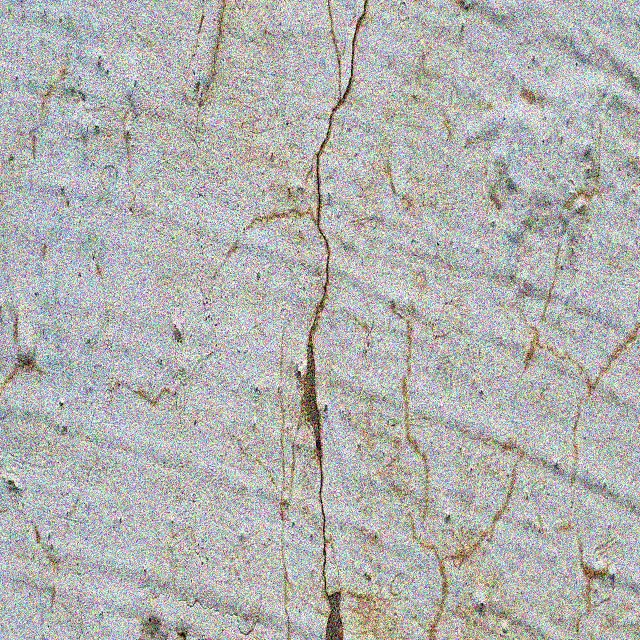SurfaceCrack: (268, 0, 389, 637)
